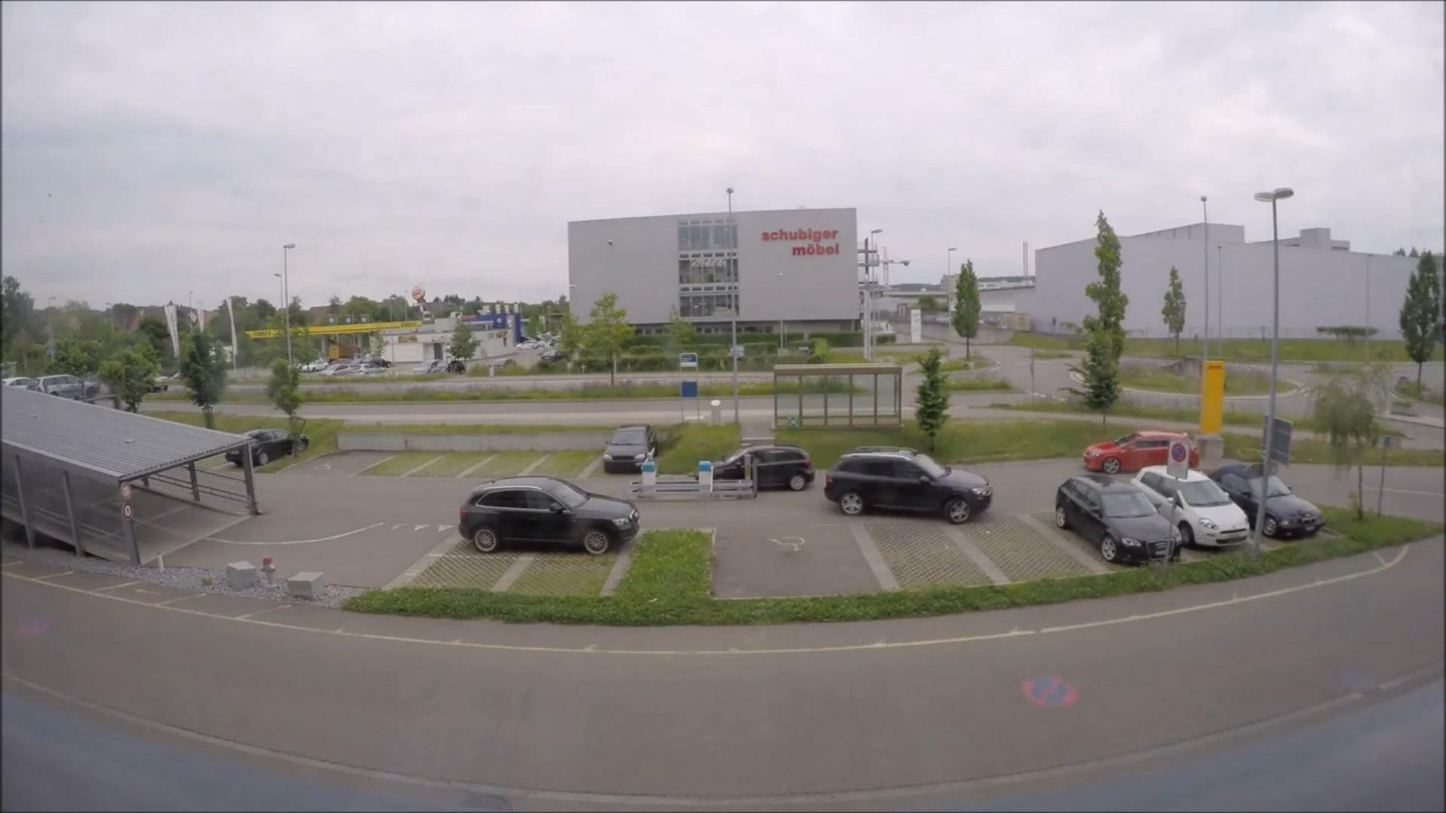occupied: (456, 476, 641, 557), (827, 449, 993, 524), (1054, 475, 1180, 566), (1202, 465, 1321, 540), (708, 443, 816, 492), (1083, 430, 1198, 474), (223, 428, 308, 467), (601, 424, 658, 473), (32, 373, 91, 399), (2, 377, 36, 390)
